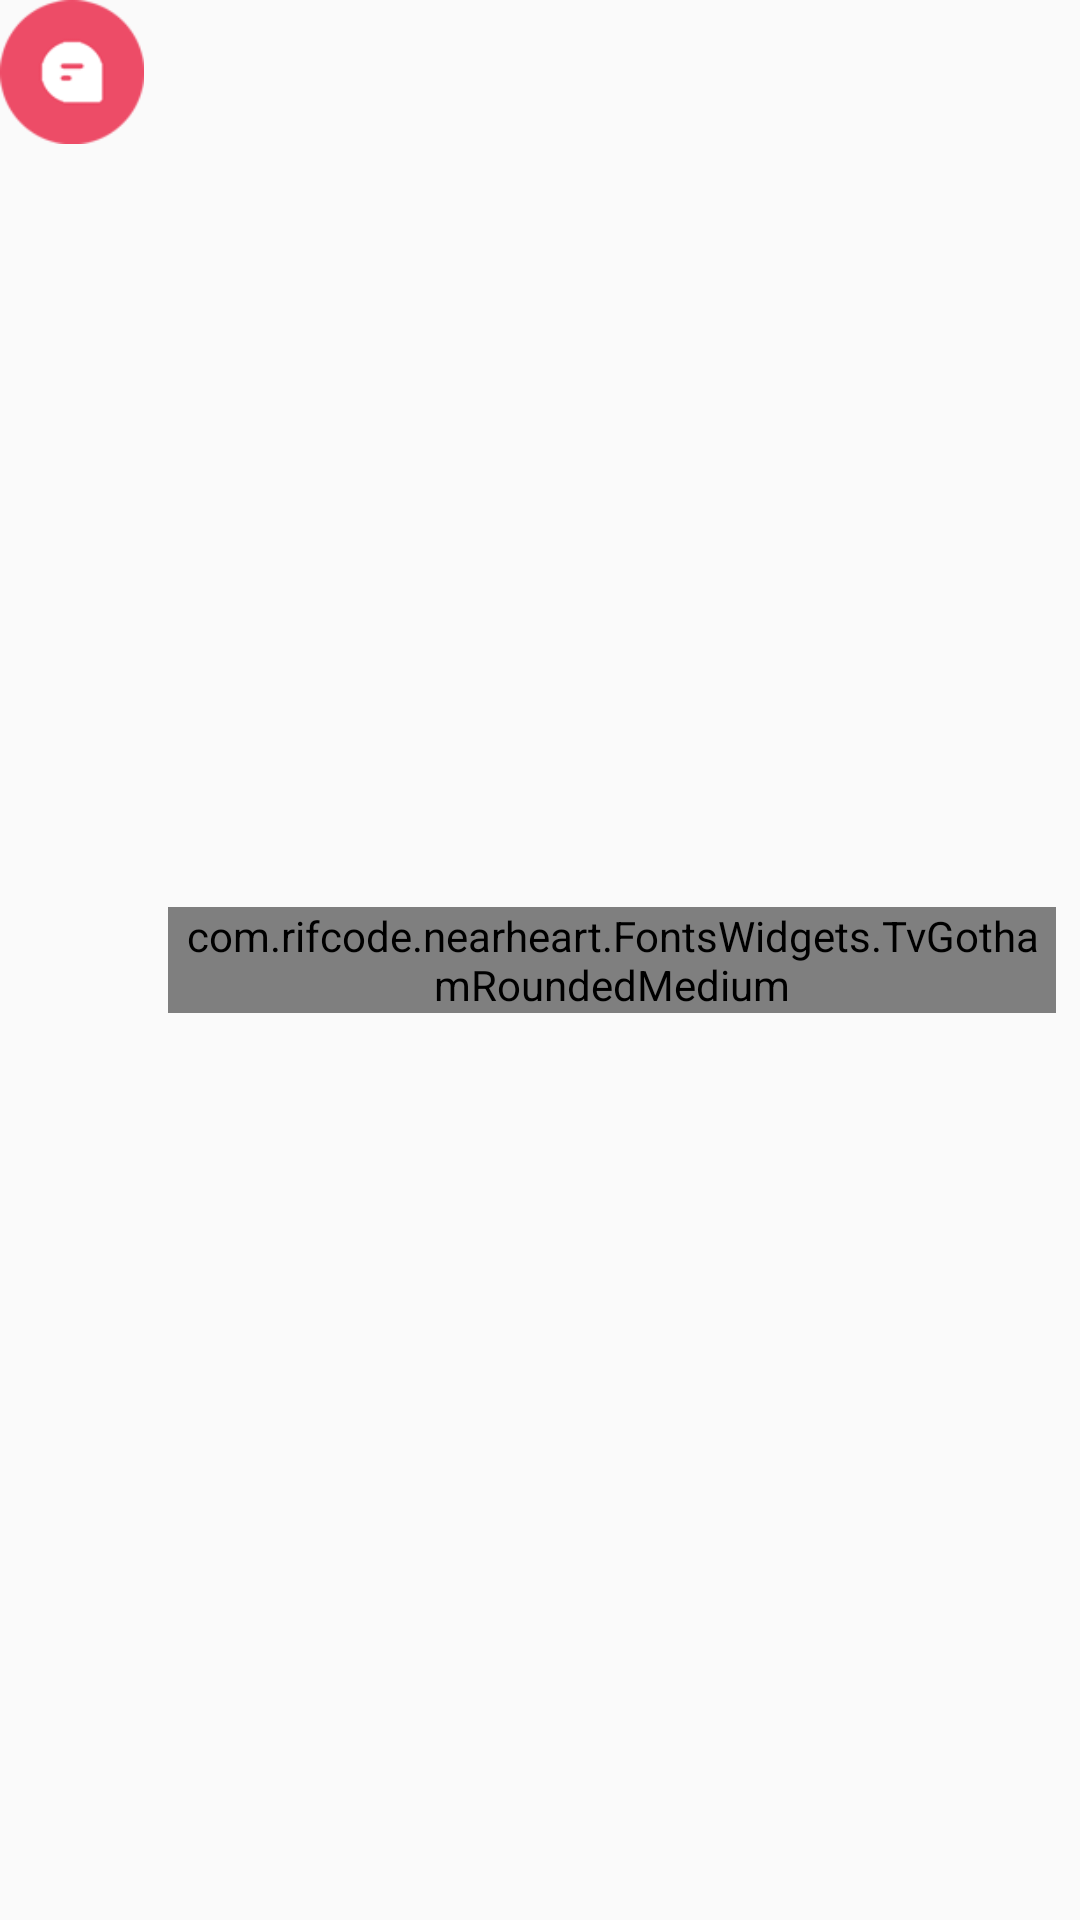

Icon bounding boxes for this 1080px×1920px phone screenshot, format (x1, y1, x2, y2):
message messages: (0, 0, 144, 144)
